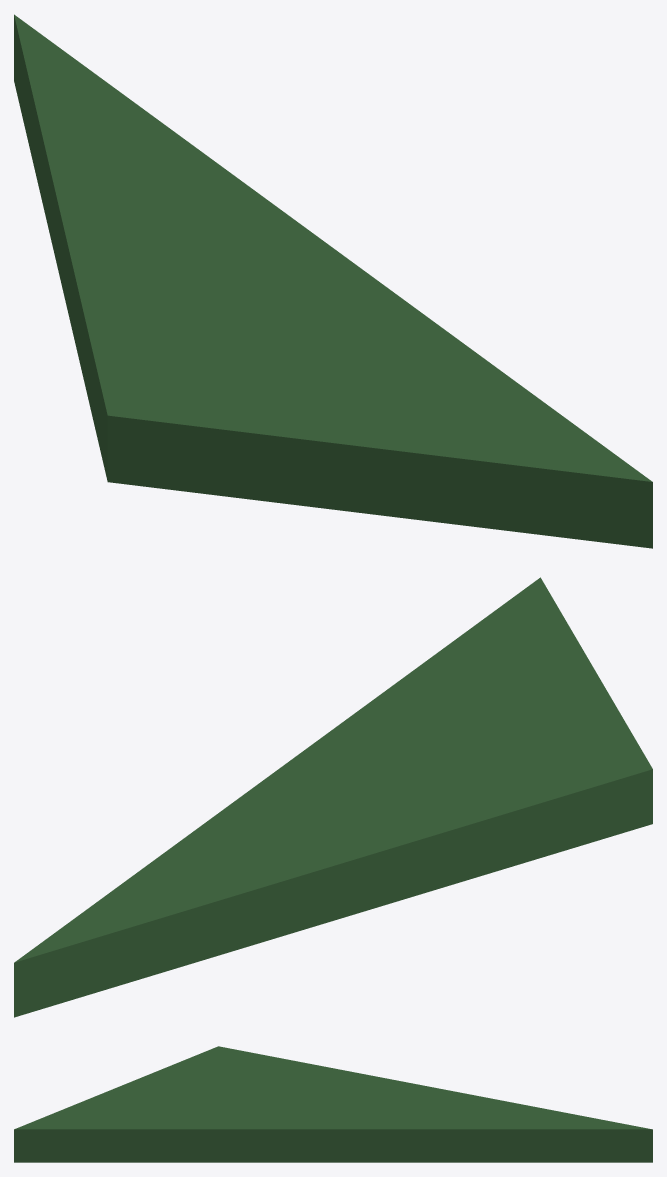
File: x_proval_00_159_1_rmstrd.fbx
3 renders of one model, top to bottom at view 1: azimuth 30°, elevation 25°; view 2: azimuth 150°, elevation 25°; view 3: azimuth 270°, elevation 25°, orthographic. The views are drawn at different scales.
Parts seen in each view (by area): view 1: x_proval_00_159_1_rmstrd1; view 2: x_proval_00_159_1_rmstrd1; view 3: x_proval_00_159_1_rmstrd1.
Boxes of the visible parts, <box> form: x_proval_00_159_1_rmstrd1: <box>14,14,652,548</box>; x_proval_00_159_1_rmstrd1: <box>14,577,652,1017</box>; x_proval_00_159_1_rmstrd1: <box>14,1046,652,1162</box>.
Bounding box in the file's own units: 1.07 × 0.2 × 3.48.
